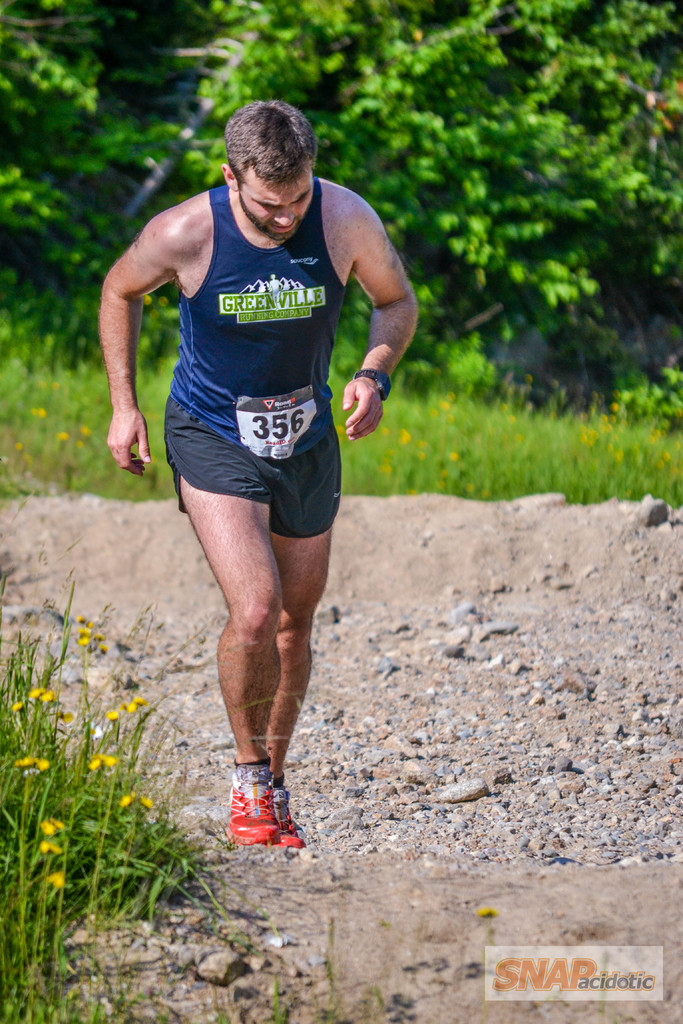Human_hand: (327, 355, 390, 435), (103, 403, 155, 481)
